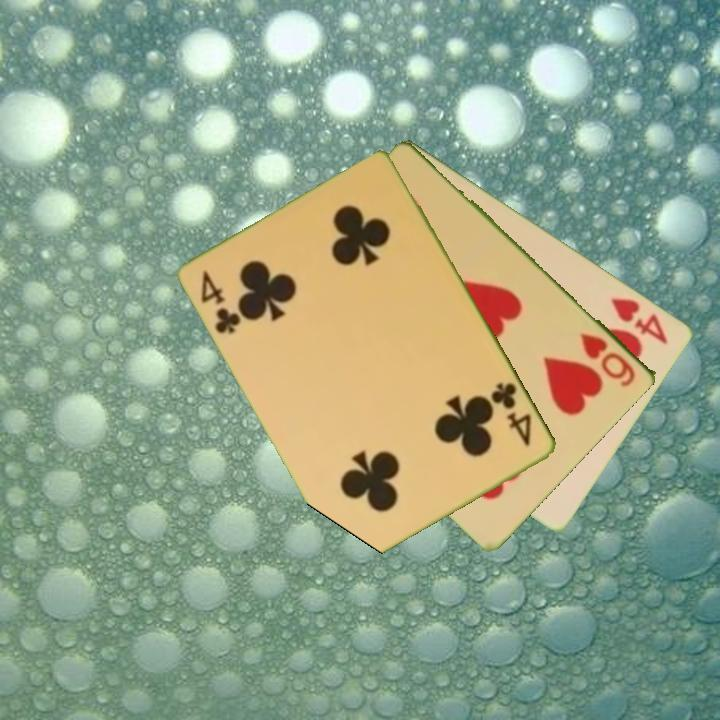4c: (487, 379, 535, 449), (197, 267, 245, 337)
4h: (607, 293, 672, 348)
6h: (577, 329, 639, 390)
